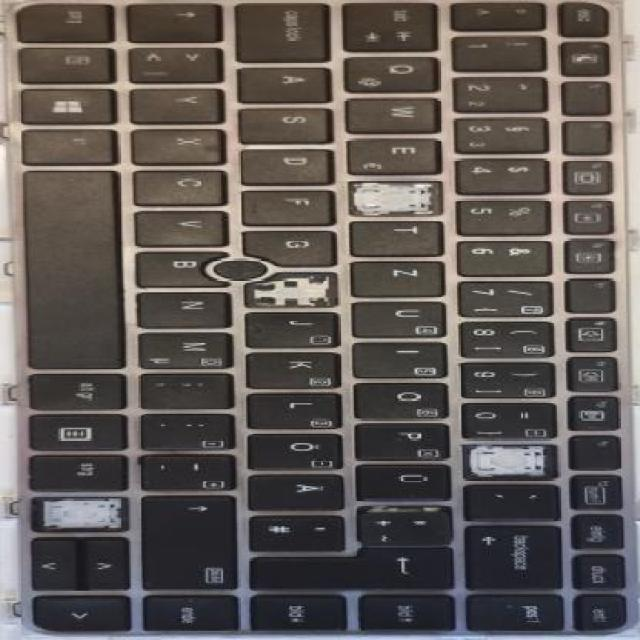Keyboard problems: (32, 498, 128, 529), (465, 446, 557, 478), (246, 274, 337, 306), (351, 183, 438, 214)
